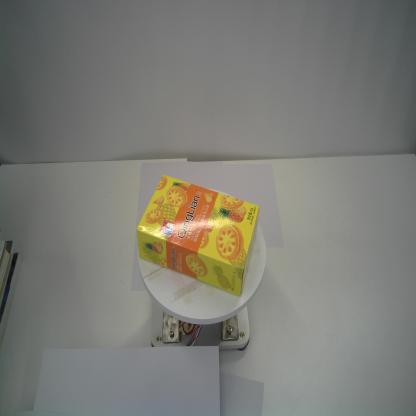Dessert: (136, 174, 259, 296)
